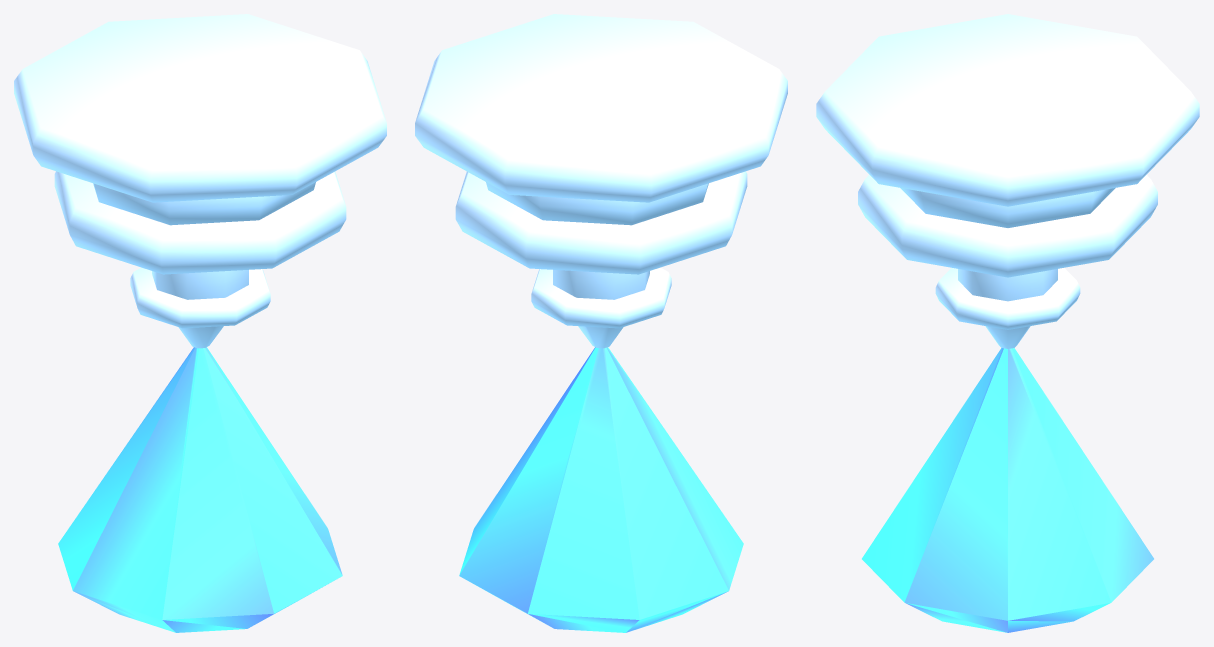
Rendered from steel_pommel_117.glb.
3 renders of one model, left to right at view 1: azimuth 30°, elevation 25°; view 2: azimuth 150°, elevation 25°; view 3: azimuth 270°, elevation 25°, orthographic.
Parts seen in each view (by area): view 1: steel_pommel_117; view 2: steel_pommel_117; view 3: steel_pommel_117.
Part boxes in pixels (x1=…): steel_pommel_117: x1=14, y1=14, x2=386, y2=632; steel_pommel_117: x1=415, y1=14, x2=787, y2=632; steel_pommel_117: x1=816, y1=14, x2=1199, y2=632.
Bounding box in the file's own units: 1.76 × 2.54 × 1.76.
Materials: 1 (1 with a texture image).
